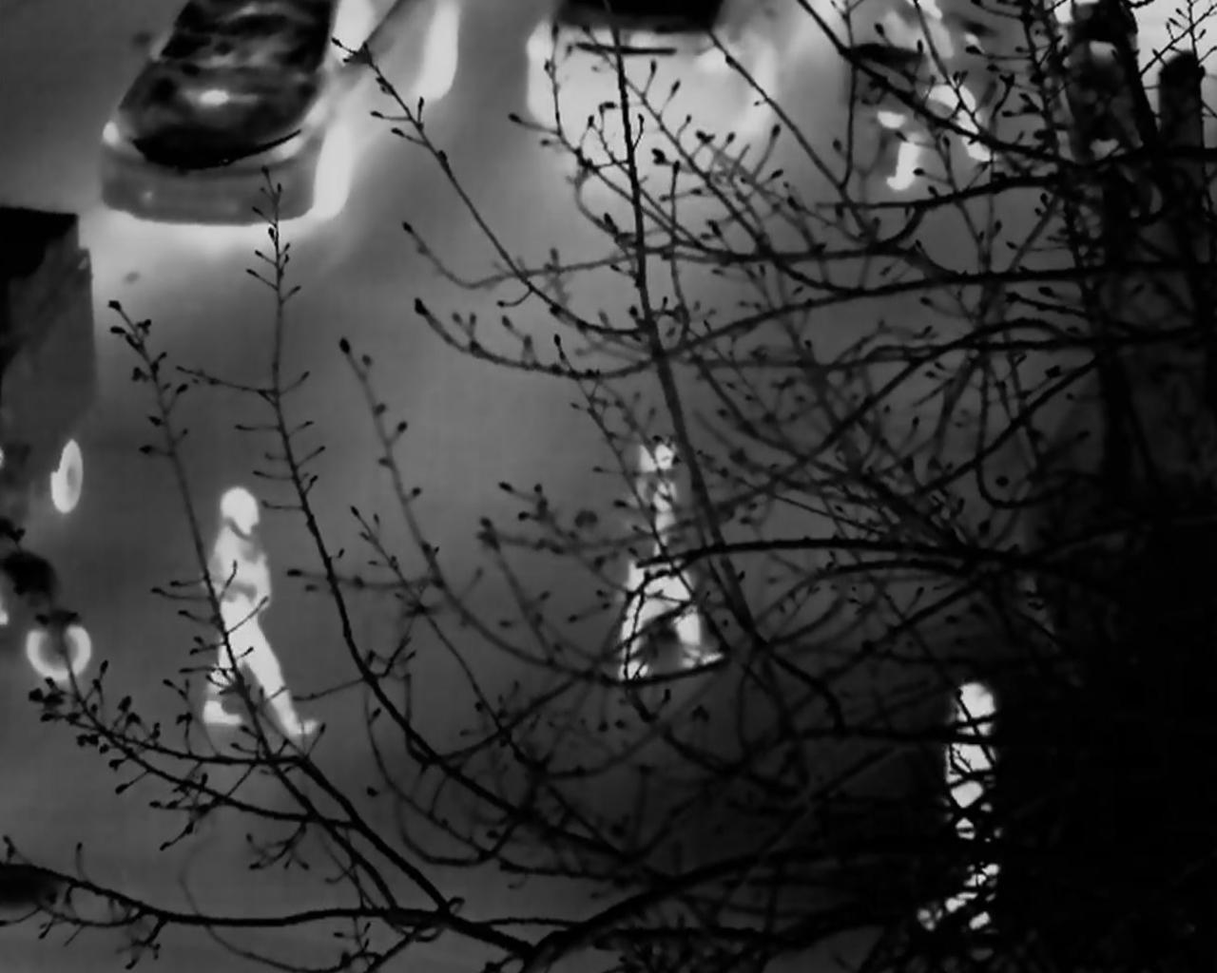person: (612, 443, 724, 694), (199, 492, 301, 725), (939, 678, 1012, 907)
